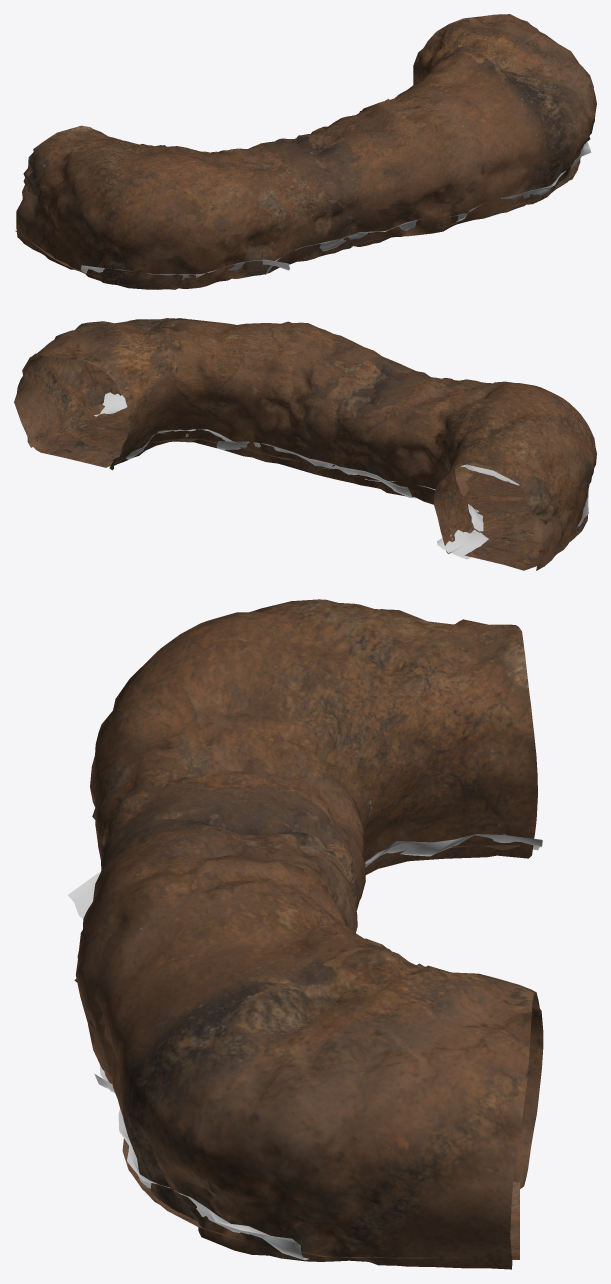
The model's file is TunelSolo.fbx.
3 views of the same model, one above another, from view 1: azimuth 30°, elevation 25°; view 2: azimuth 150°, elevation 25°; view 3: azimuth 270°, elevation 25° (orthographic). The views are drawn at different scales.
Parts seen in each view (by area): view 1: CuevaTunel; view 2: CuevaTunel; view 3: CuevaTunel.
Boxes of the visible parts, box(x1,y1,x2,y2) form: CuevaTunel: box(15, 14, 596, 289); CuevaTunel: box(14, 318, 596, 570); CuevaTunel: box(68, 599, 543, 1269).
Size of the model in its own units: 2262 by 487 by 887.
